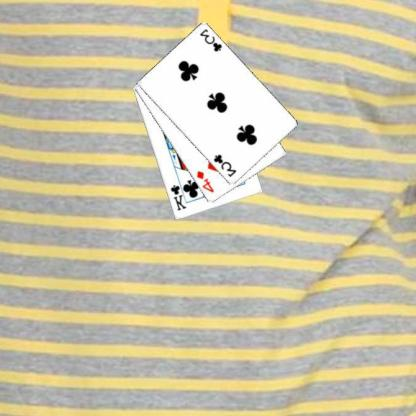3C: (212, 151, 240, 179), (199, 26, 225, 53)
4D: (196, 168, 217, 194)
KC: (170, 178, 191, 212)
